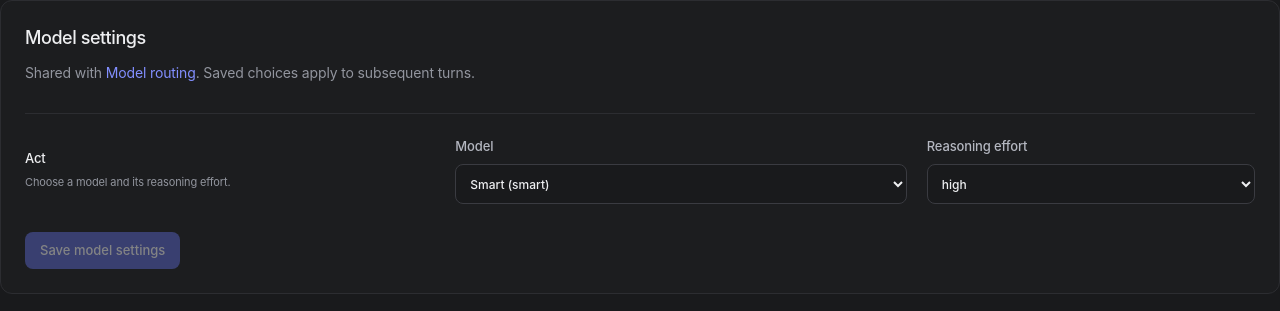
it: agent configuration controls › edits the existing model route for act
Select "Fast (fast)" in the dropdown named "Act model" at {"x": 681, "y": 184}, box [455,164,907,204]
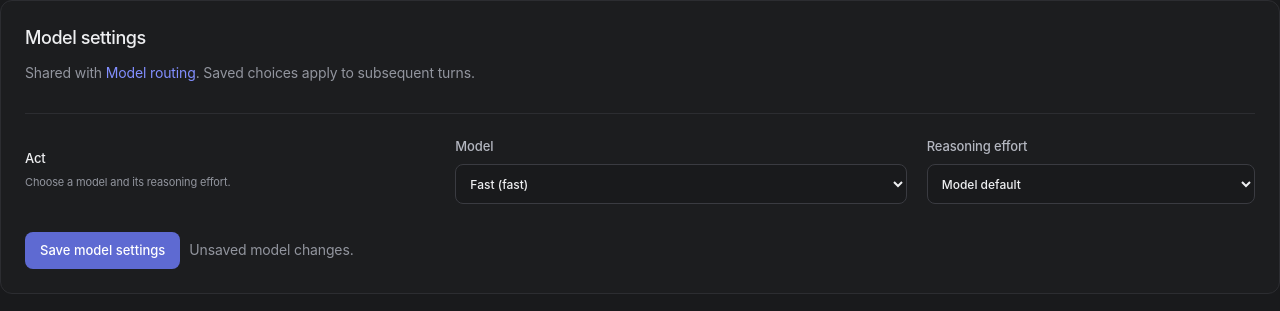
Select "medium" in the dropdown labelled "Reasoning effort" at {"x": 1091, "y": 184}, box [927,164,1255,204]
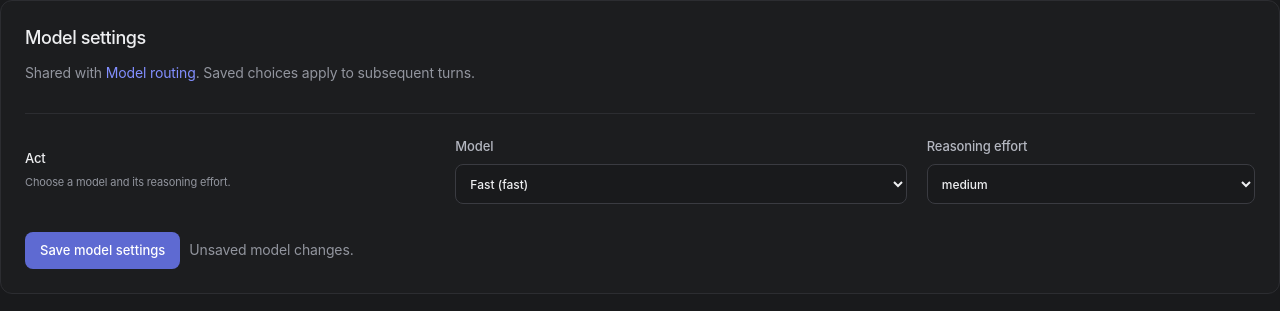
Click the button "Save model settings" at {"x": 103, "y": 250}, box [25,232,180,269]
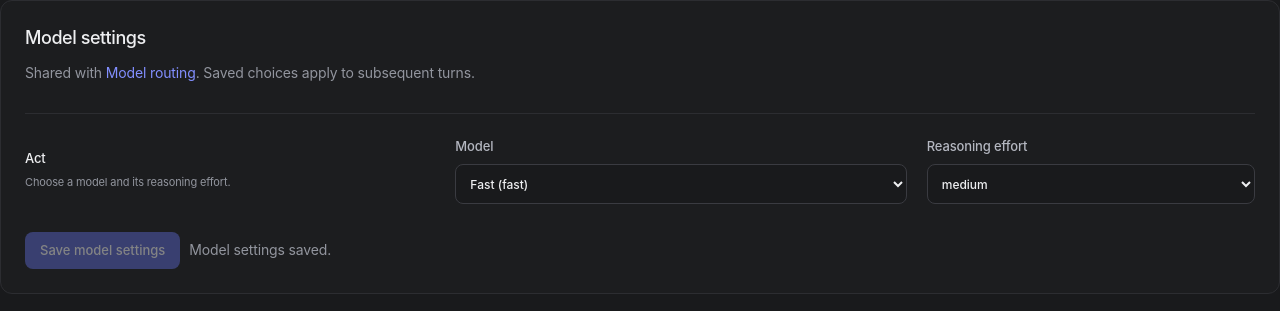
Check: the text "Model settings saved." is shown, box [189,239,331,262]
